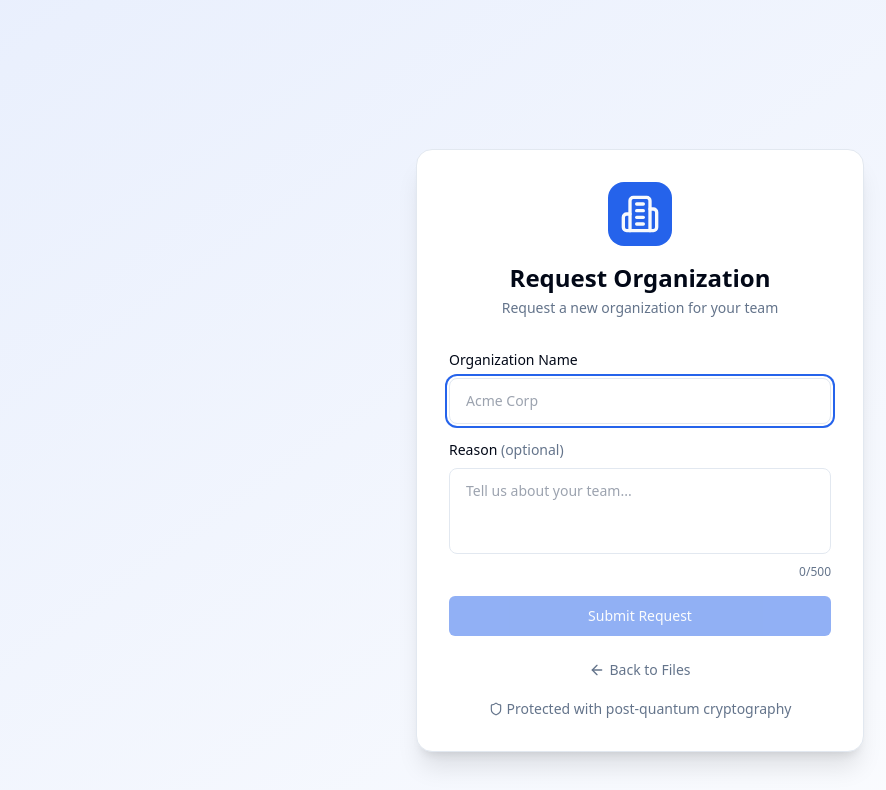
Test case: TenantRequestPage › form validation › should enable submit button when organization name is provided
The width and height of the screenshot is (886, 790).
In the field with placeholder "Acme Corp": (640, 400) x1=449 y1=378 x2=831 y2=424, type "My Organization"
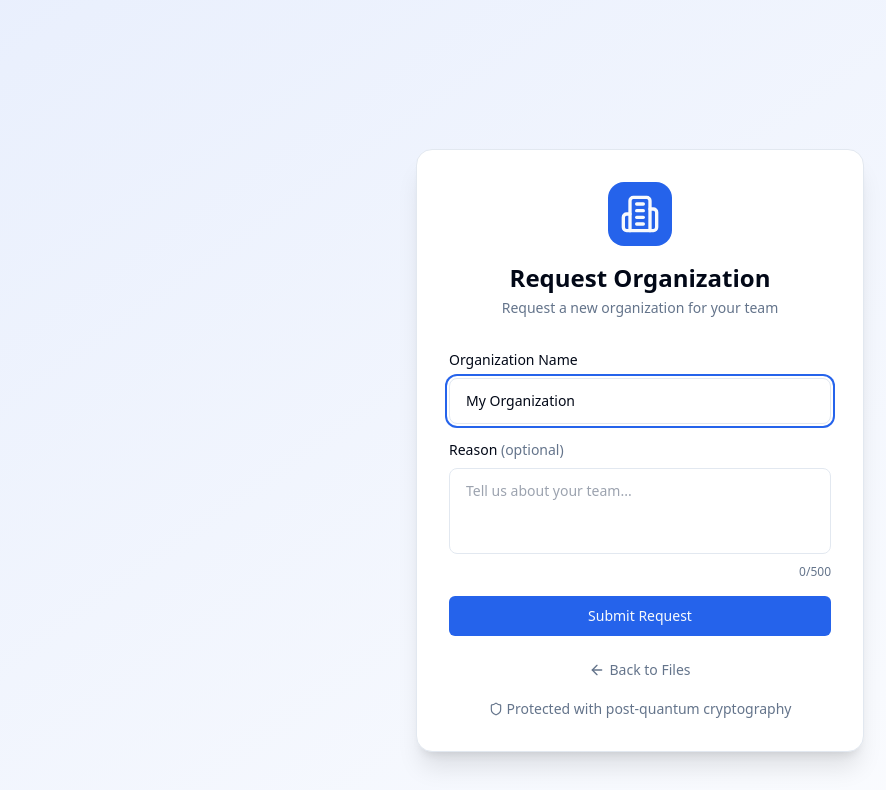
Result: the button "Submit Request" is enabled at x1=449 y1=596 x2=831 y2=636
